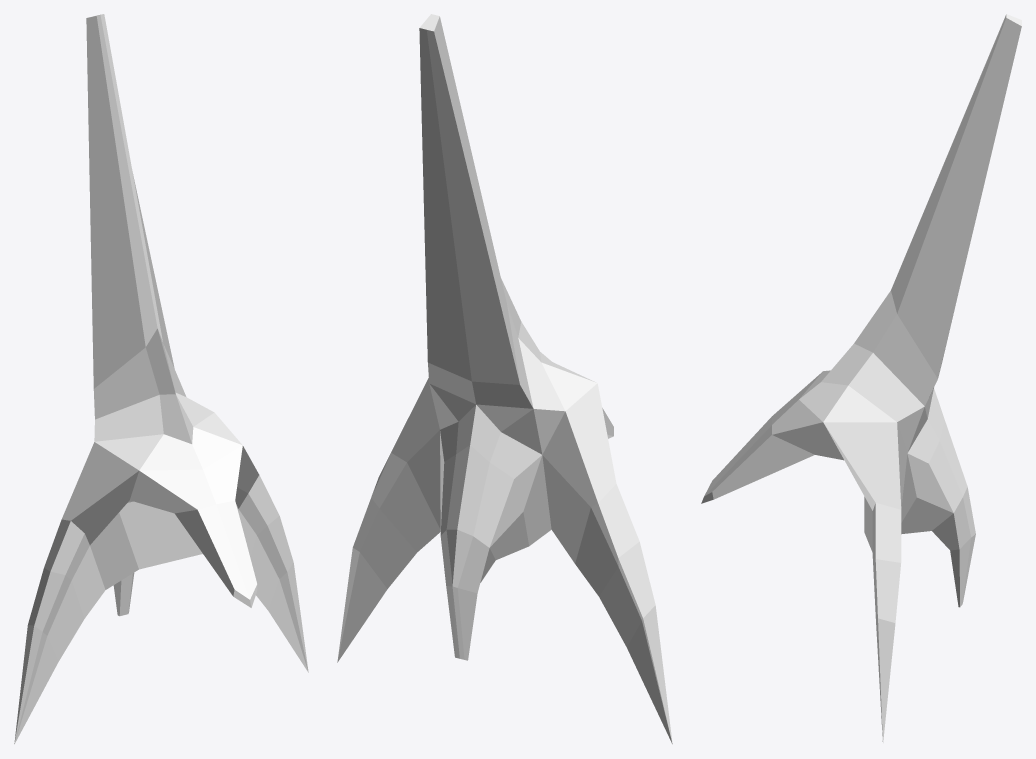
Rendered from head_35.fbx.
The picture shows the model from 3 angles, left to right: view 1: azimuth 30°, elevation 25°; view 2: azimuth 150°, elevation 25°; view 3: azimuth 270°, elevation 25°; orthographic projection. The views are drawn at different scales.
Parts seen in each view (by area): view 1: Cube.163; view 2: Cube.163; view 3: Cube.163.
Boxes of the visible parts, x1=… form: Cube.163: x1=14, y1=14, x2=308, y2=744; Cube.163: x1=337, y1=14, x2=672, y2=744; Cube.163: x1=701, y1=14, x2=1021, y2=742.
Bounding box in the file's own units: 80.98 × 171 × 75.61.
